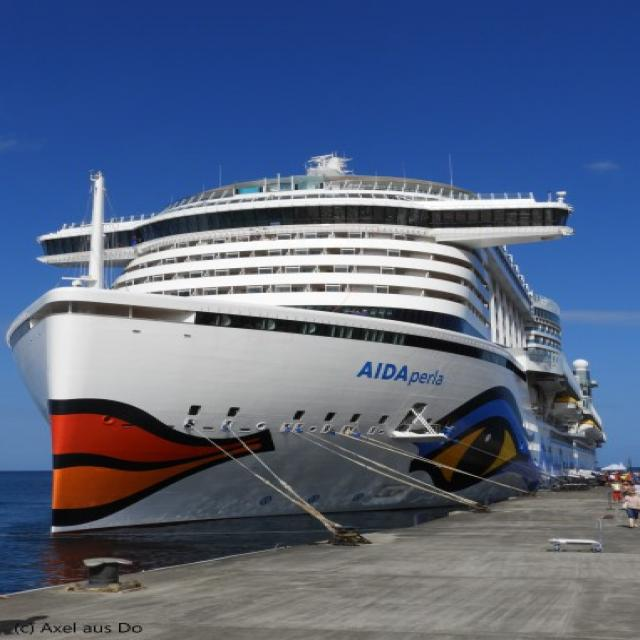cruises: (1, 147, 613, 538)
